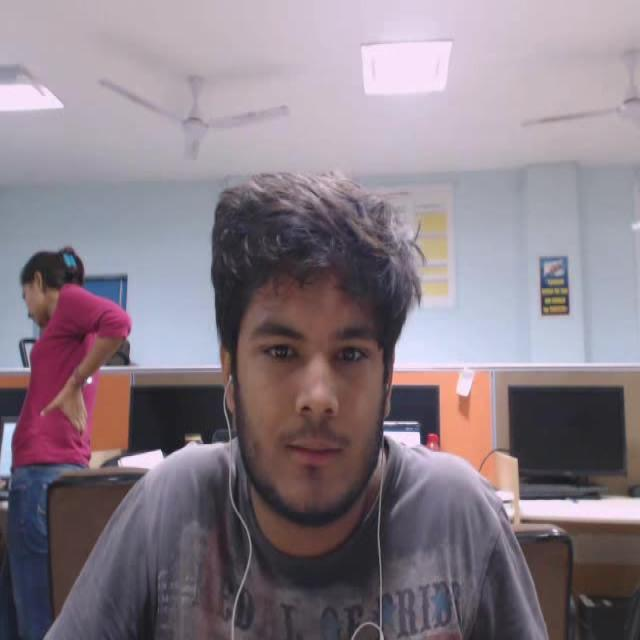Engaged: (187, 147, 446, 552)
